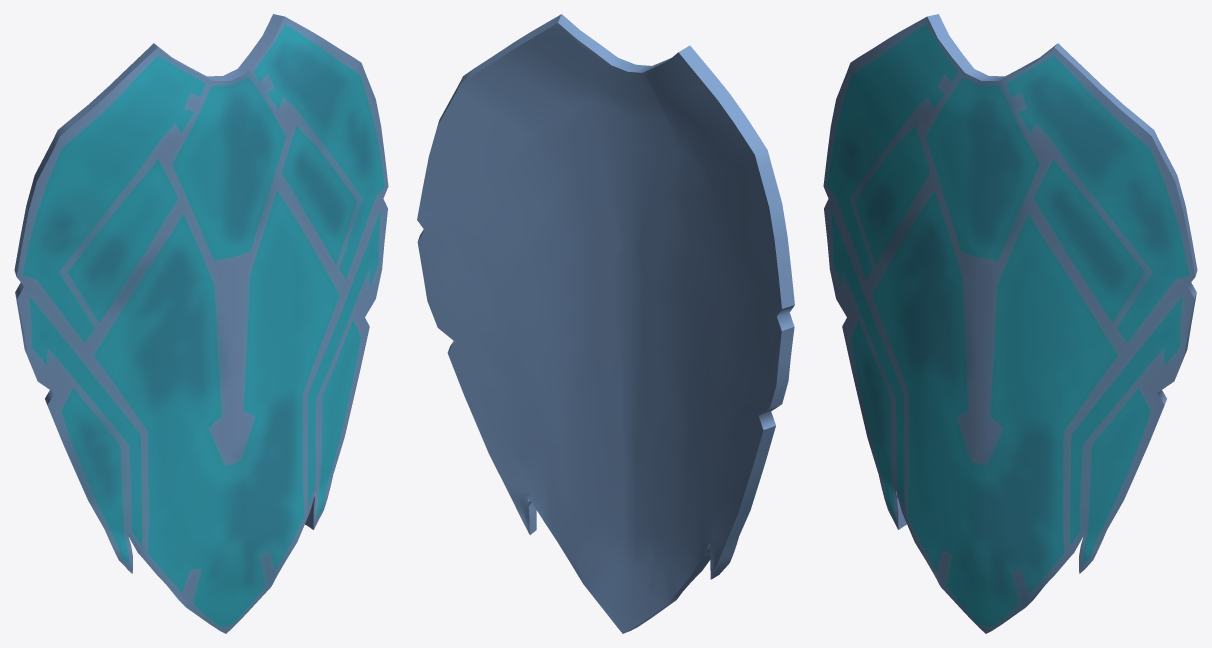
Rendered from LightShield_alone_Low.fbx.
The picture shows the model from 3 angles, left to right: view 1: azimuth 30°, elevation 25°; view 2: azimuth 150°, elevation 25°; view 3: azimuth 330°, elevation 25°; orthographic projection.
Visible parts, largest first — view 1: LightsShield_Low1; view 2: LightsShield_Low1; view 3: LightsShield_Low1.
Part boxes in pixels (x1,y1,x2,y2): LightsShield_Low1: (14, 14, 388, 633); LightsShield_Low1: (417, 14, 794, 633); LightsShield_Low1: (823, 14, 1197, 633).
Size of the model in its own units: 88.79 by 137 by 15.86.
